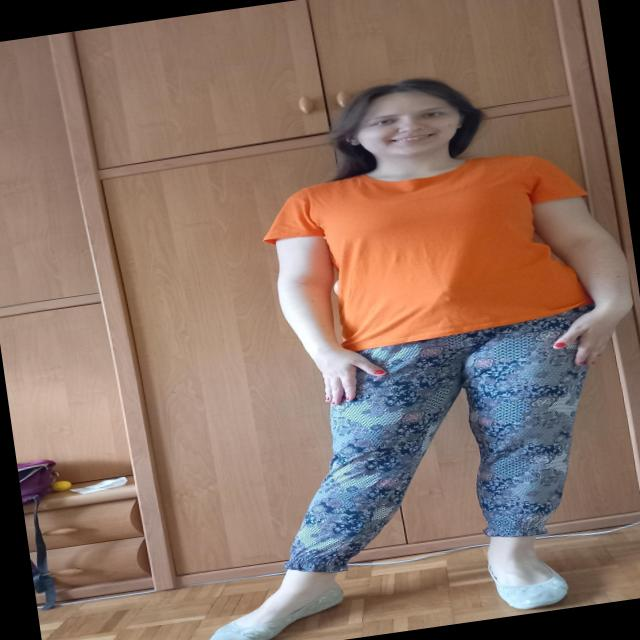Tshirt: (256, 142, 604, 363)
pants: (251, 300, 630, 580)
